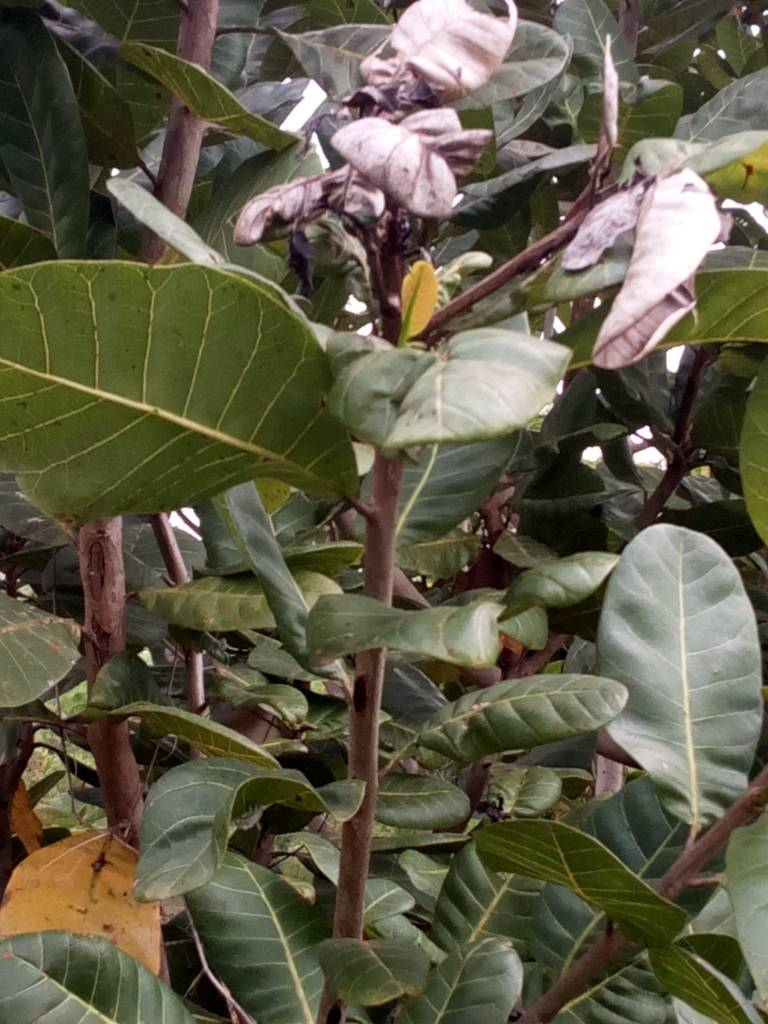Dessèchement des bourgeons: (230, 172, 386, 247)
